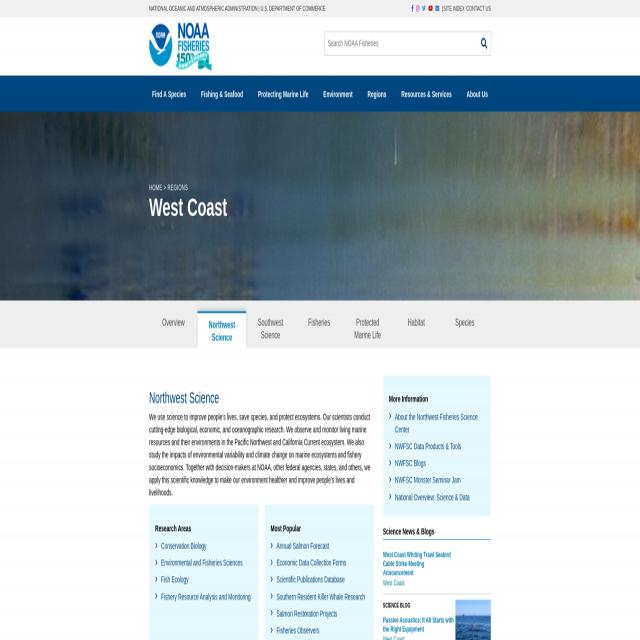button: (149, 23, 212, 70), (398, 77, 455, 111), (255, 77, 311, 111), (149, 312, 198, 348), (198, 312, 246, 348), (246, 312, 294, 348), (295, 312, 343, 348), (344, 312, 392, 348), (392, 312, 440, 348), (441, 312, 489, 348), (198, 77, 246, 111), (456, 599, 490, 640), (149, 77, 189, 111), (320, 77, 356, 111), (463, 77, 491, 111), (364, 77, 390, 111), (479, 37, 489, 49)
field: (325, 31, 491, 56)
